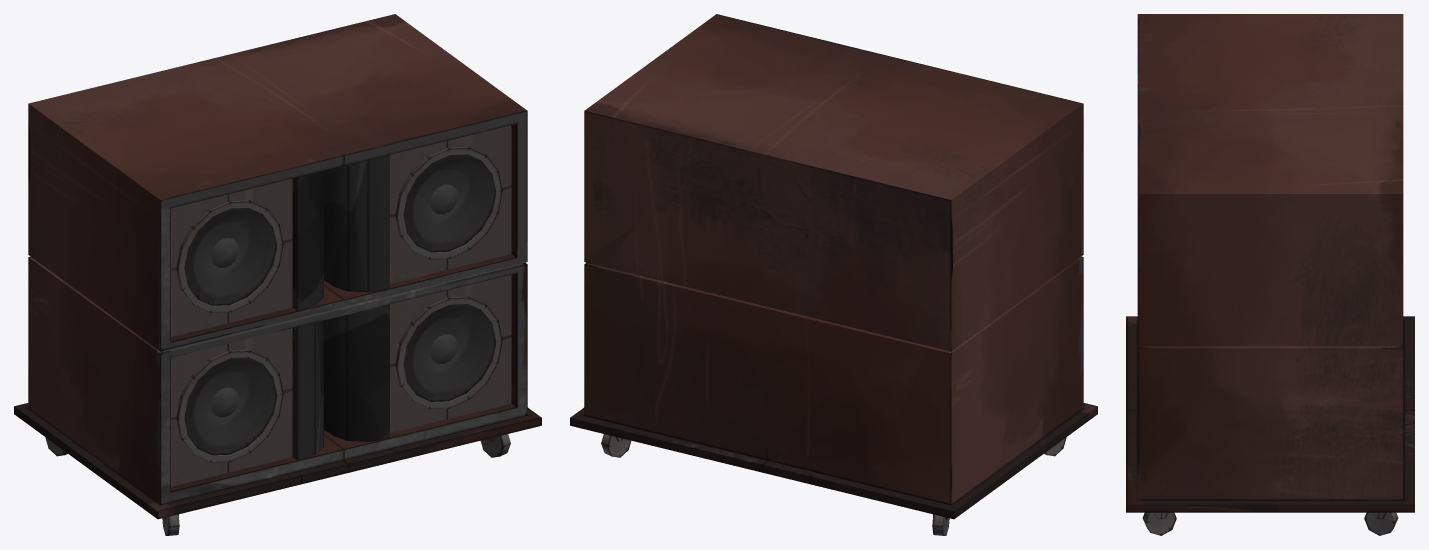
The model's file is Speakers_Asset.fbx.
3 views of the same model, side by side, from view 1: azimuth 30°, elevation 25°; view 2: azimuth 150°, elevation 25°; view 3: azimuth 270°, elevation 25° (orthographic).
Parts seen in each view (by area): view 1: Speakers; view 2: Speakers; view 3: Speakers.
Boxes of the visible parts, x1,y1,x2,y2 form: Speakers: [14, 14, 541, 535]; Speakers: [570, 14, 1097, 535]; Speakers: [1126, 14, 1414, 535].
Bounding box in the file's own units: 105 × 67.8 × 90.63.
Materials: 1 (1 with a texture image).
